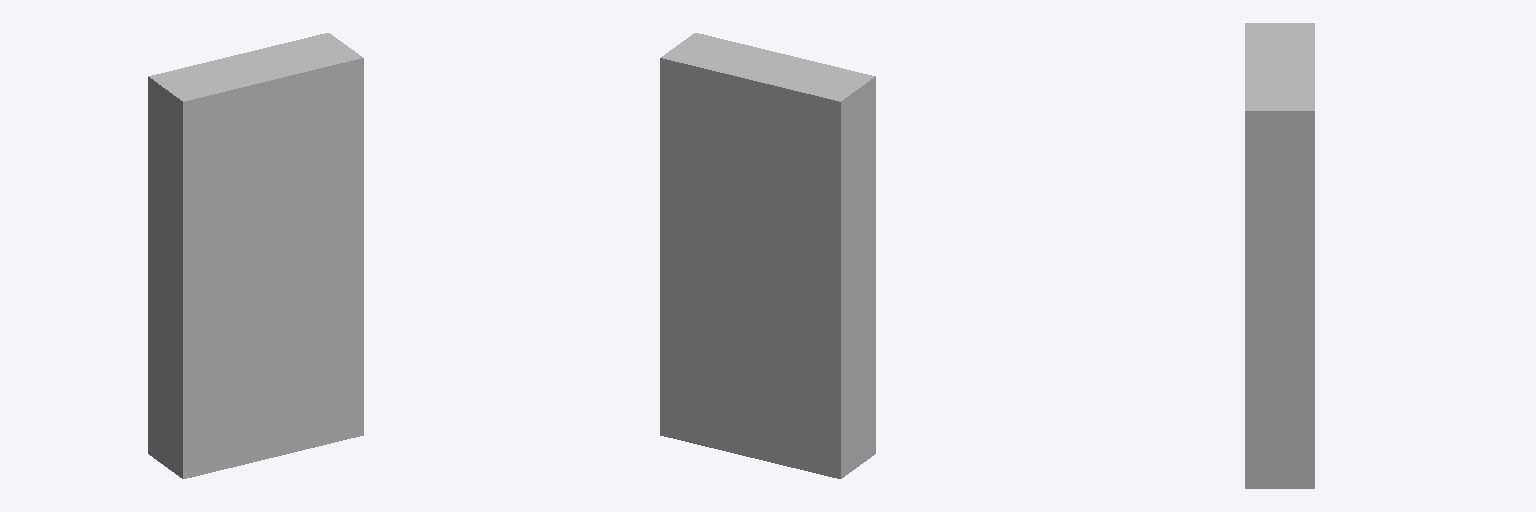
File: cuboid.obj
3 renders of one model, left to right at view 1: azimuth 30°, elevation 25°; view 2: azimuth 150°, elevation 25°; view 3: azimuth 270°, elevation 25°, orthographic.
Size of the model in its own units: 0.45 by 0.9 by 0.15.